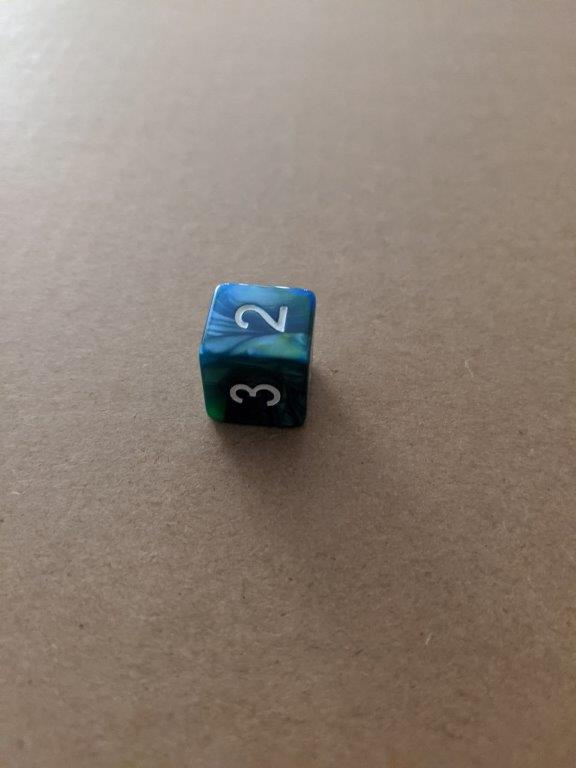d6-2: (195, 279, 318, 432)
